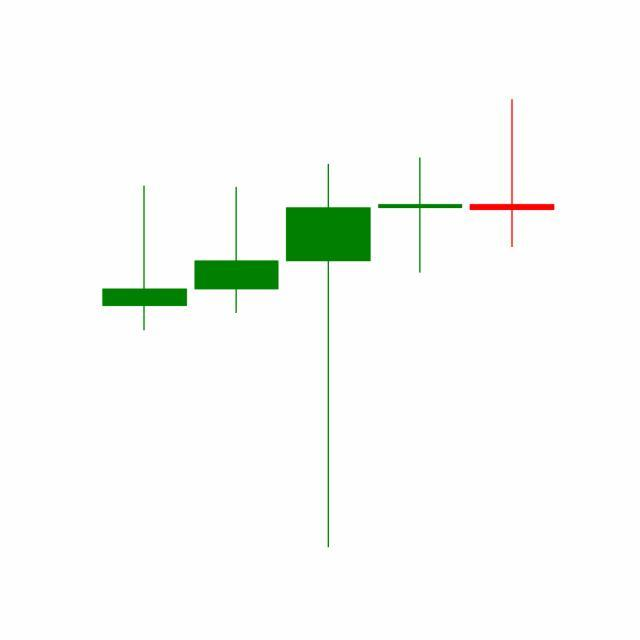Spinning Top: (374, 157, 468, 276)
